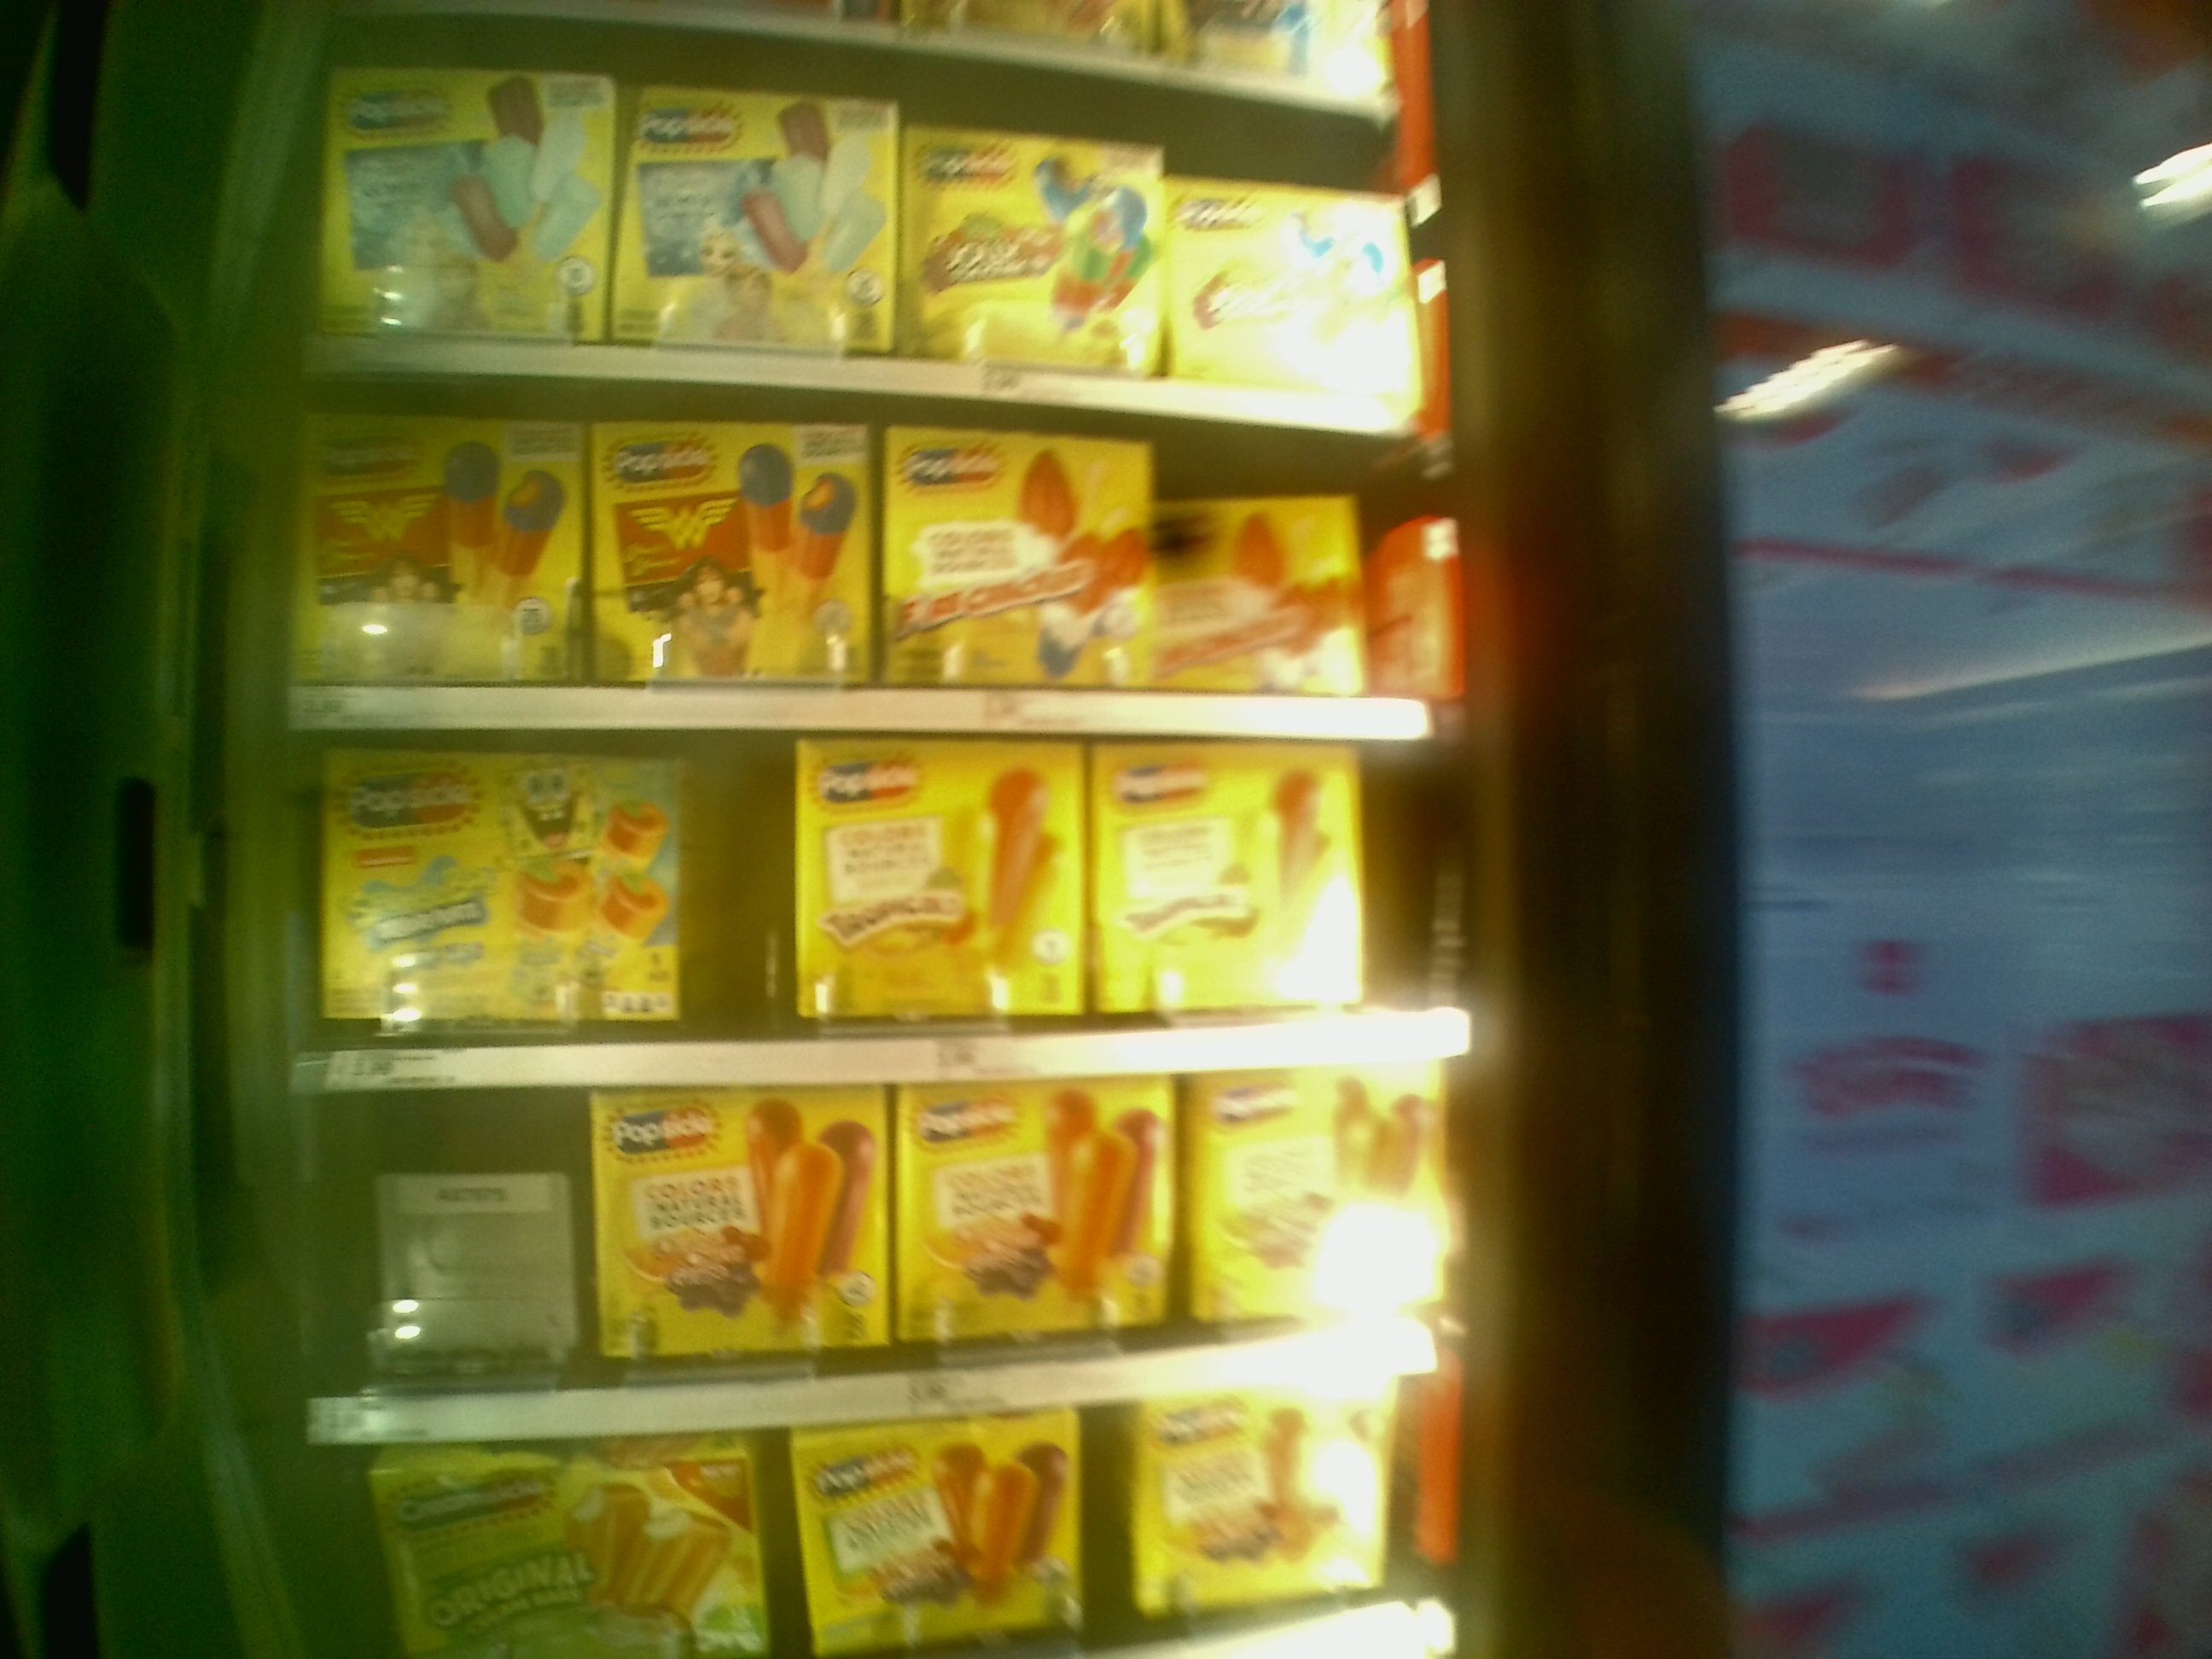frozen-food-shelf: (280, 732, 1479, 1093)
